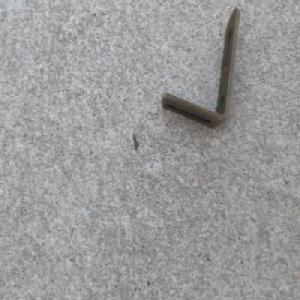MetalPart: (159, 6, 240, 132)
